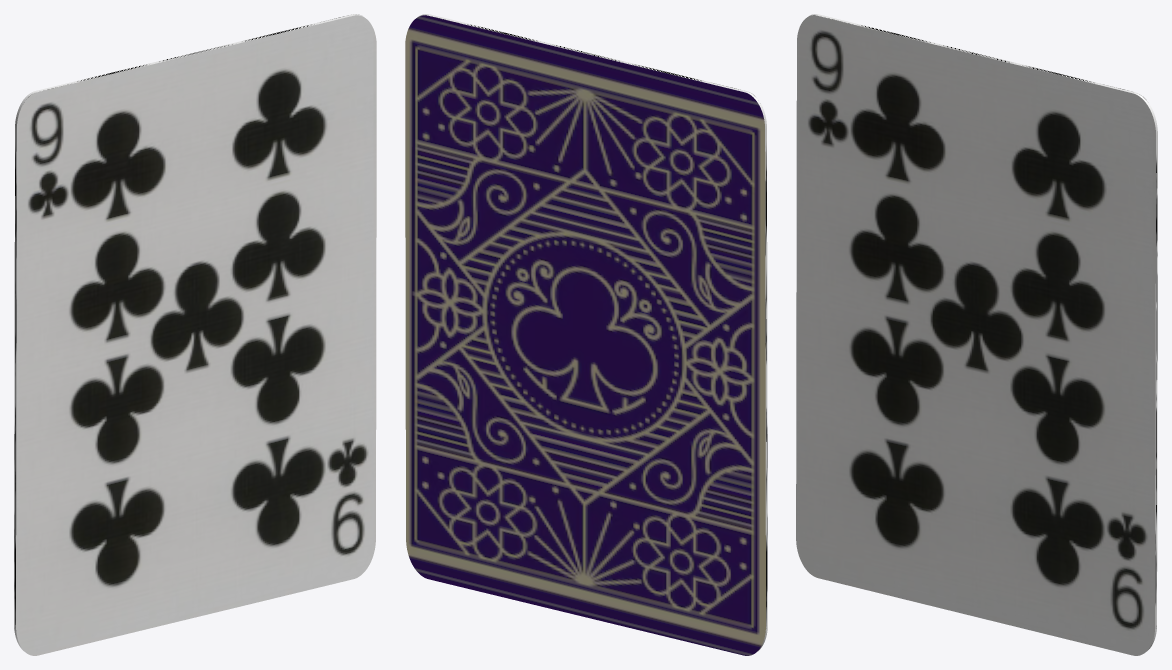
Rendered from 9treboles.glb.
The picture shows the model from 3 angles, left to right: view 1: azimuth 30°, elevation 25°; view 2: azimuth 150°, elevation 25°; view 3: azimuth 330°, elevation 25°; orthographic projection.
Visible parts, largest first — view 1: Cubo.021; view 2: Cubo.021; view 3: Cubo.021.
Boxes of the visible parts, x1,y1,x2,y2 form: Cubo.021: [14, 14, 376, 655]; Cubo.021: [405, 14, 767, 655]; Cubo.021: [796, 14, 1157, 655].
Bounding box in the file's own units: 7.36 × 11 × 0.065.
3 materials, 3 textured.
